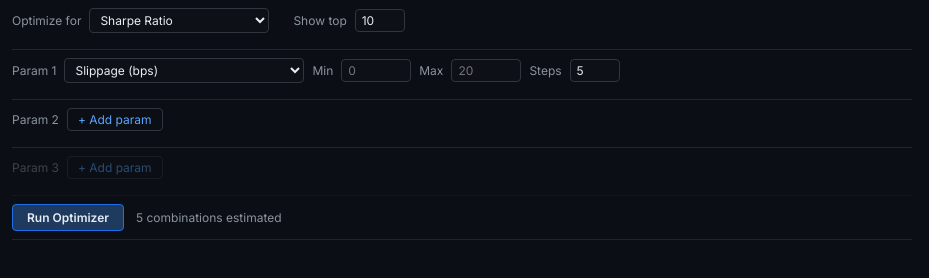
Test: OptimizerPanel runOptimizer validation — ordered branches › branch 6: rejects Steps less than 2
Replace the text in the number field next to "Steps" with "1" at (595, 70), box [570,59,620,82]
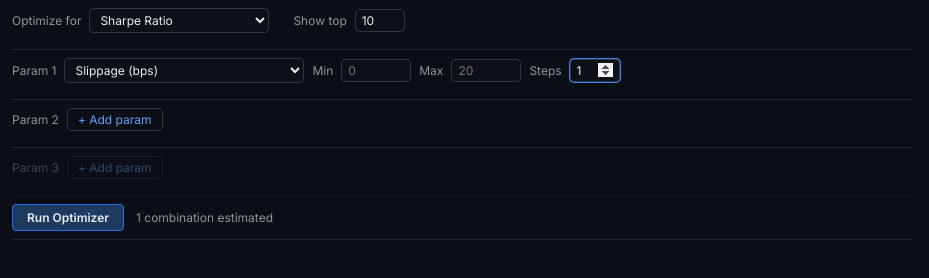
Click the button "Run Optimizer".
click(68, 218)  # box [12,204,124,231]
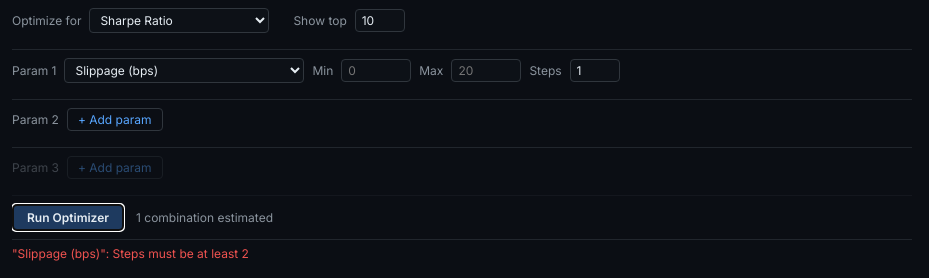
Now the text "\"Slippage (bps)\": Steps must be at least 2" is shown, box [12,246,249,261]
